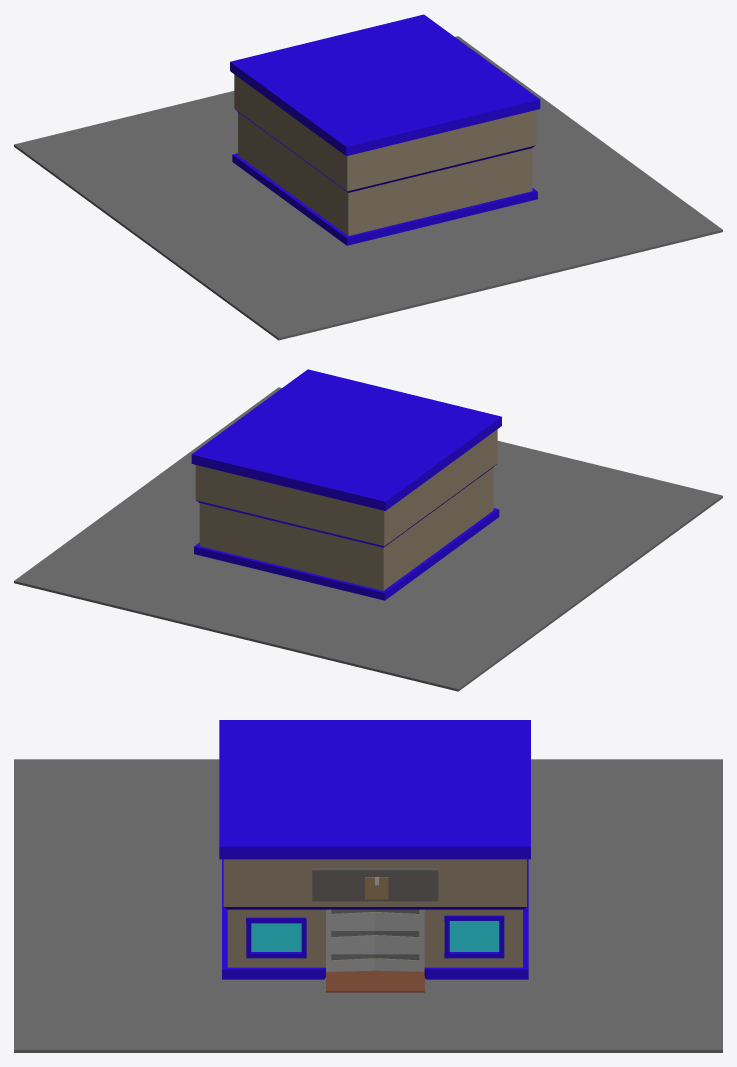
The model's file is PostOffice.fbx.
3 renders of one model, top to bottom at view 1: azimuth 30°, elevation 25°; view 2: azimuth 150°, elevation 25°; view 3: azimuth 270°, elevation 25°, orthographic. The views are drawn at different scales.
Visible parts, largest first — view 1: Cube.013; view 2: Cube.013; view 3: Cube.013.
Part boxes in pixels (box(x1,y1,x2,y2)): Cube.013: box(14, 14, 722, 340); Cube.013: box(14, 369, 722, 691); Cube.013: box(14, 720, 722, 1052).
Size of the model in its own units: 2758 by 612 by 2845.
